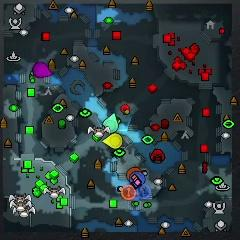Other: (122, 184, 137, 201), (137, 184, 151, 199)
p1: (130, 171, 146, 189)
p2: (103, 111, 118, 132)
p3: (32, 62, 52, 79)
p4: (102, 133, 123, 149)
p5: (126, 167, 143, 180)
